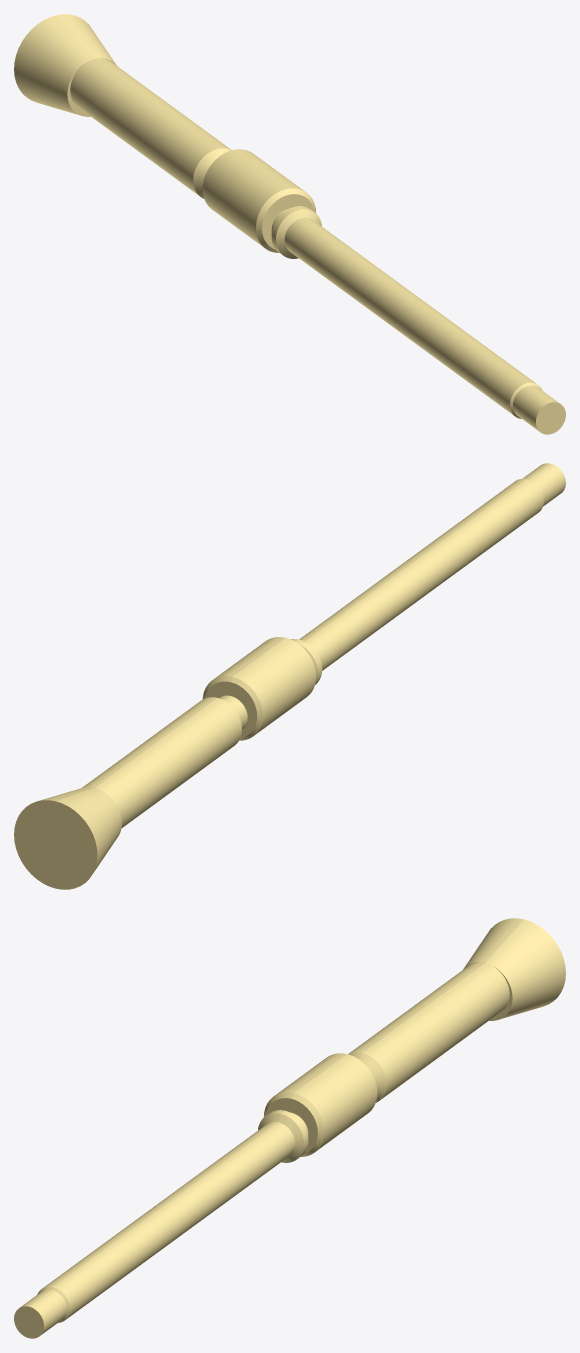
The model's file is cannon.glb.
3 renders of one model, top to bottom at view 1: azimuth 30°, elevation 25°; view 2: azimuth 150°, elevation 25°; view 3: azimuth 330°, elevation 25°, orthographic.
Visible parts, largest first — view 1: cannon; view 2: cannon; view 3: cannon.
Boxes of the visible parts, x1,y1,x2,y2 form: cannon: [14, 14, 565, 434]; cannon: [14, 463, 565, 889]; cannon: [14, 918, 565, 1338].
Size of the model in its own units: 0.4428 by 0.4428 by 4.55.
